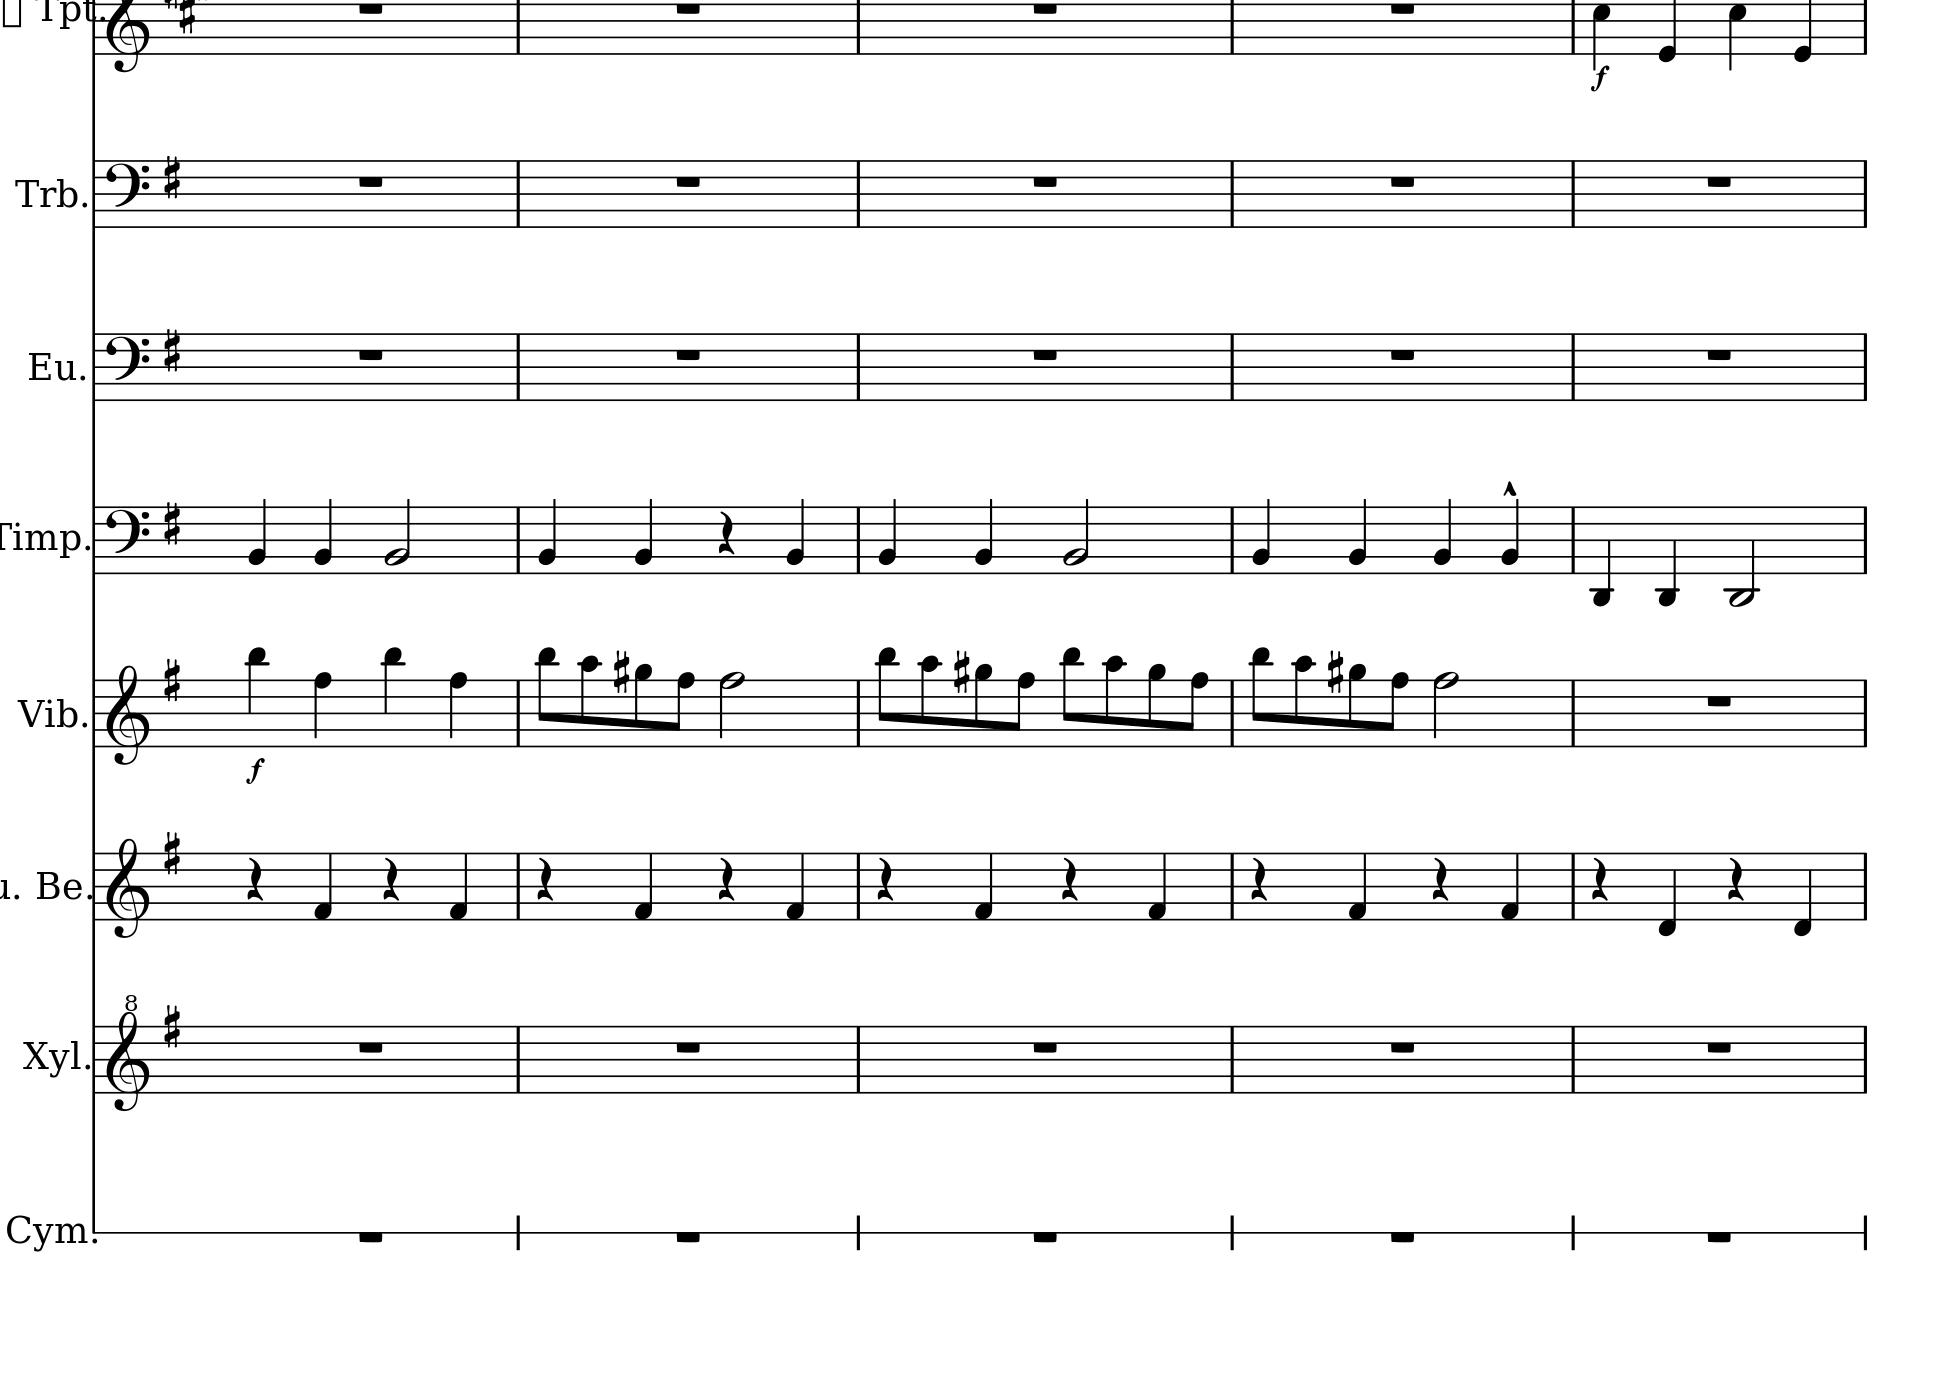2_-3: (1725, 504, 1758, 609)
2_2: (1062, 496, 1092, 576), (382, 496, 412, 574)
2_8: (1432, 670, 1461, 748), (718, 669, 745, 750)
4_-1: (1791, 850, 1815, 937), (1656, 850, 1678, 937)
4_-3: (1656, 502, 1680, 607), (1590, 504, 1614, 607)
4_1: (310, 850, 334, 922), (631, 850, 655, 922), (783, 850, 807, 922), (972, 850, 996, 922), (447, 850, 469, 922), (1146, 850, 1168, 922), (1347, 850, 1369, 922), (1498, 850, 1521, 922)
4_11: (379, 643, 405, 748), (244, 643, 268, 748)
4_2: (535, 496, 559, 576), (1431, 496, 1455, 576), (246, 495, 268, 574), (312, 496, 334, 574), (633, 496, 655, 574), (784, 496, 807, 574), (876, 496, 898, 574), (973, 496, 996, 574), (1251, 496, 1273, 574), (1347, 496, 1369, 574), (1500, 498, 1521, 574)
4_8: (310, 669, 334, 748), (447, 670, 469, 750)
8_10: (577, 652, 601, 748), (1102, 652, 1126, 748), (1291, 652, 1315, 748), (918, 652, 940, 748)
8_11: (874, 643, 900, 748), (1249, 643, 1275, 748), (1059, 643, 1083, 748), (535, 645, 559, 748)
8_8: (667, 670, 696, 748), (1008, 670, 1036, 748), (1182, 670, 1210, 748), (1381, 670, 1410, 748)
8_9: (631, 661, 654, 748), (972, 661, 994, 748), (1146, 661, 1168, 748), (1345, 661, 1368, 748)
Fclef: (103, 156, 153, 228), (103, 504, 151, 577), (103, 331, 151, 402)
Gclef: (106, 837, 151, 940), (105, 664, 150, 766), (103, 1, 148, 75)
High_Gclef: (105, 994, 148, 1114)
Marcato_above: (1501, 478, 1519, 499)
Rests1: (352, 1227, 388, 1249), (1027, 1227, 1062, 1249), (670, 1227, 705, 1248), (1702, 1228, 1737, 1249), (354, 343, 387, 364), (1029, 343, 1062, 364), (355, 169, 387, 190), (1029, 171, 1062, 190), (1386, 1228, 1419, 1248), (672, 171, 703, 190), (672, 343, 703, 363), (1386, 172, 1419, 190), (1029, 1036, 1062, 1054), (1704, 172, 1735, 190), (1387, 345, 1419, 363), (1704, 345, 1735, 363), (354, 1, 387, 18), (1029, 1, 1062, 18), (354, 1038, 387, 1054), (1386, 1038, 1419, 1054), (672, 1038, 703, 1054), (1386, 1, 1419, 16), (1704, 691, 1734, 708), (672, 1, 703, 16), (1704, 1039, 1734, 1054)
Rests4: (532, 855, 555, 903), (873, 855, 895, 903), (1588, 856, 1611, 903), (715, 508, 736, 556), (244, 855, 265, 903), (379, 855, 400, 903), (715, 855, 736, 903), (1059, 855, 1080, 903), (1248, 855, 1269, 903), (1725, 855, 1746, 903), (1431, 855, 1450, 903)
Sharp: (159, 151, 184, 202), (160, 325, 184, 376), (160, 655, 184, 706), (160, 829, 184, 879), (160, 1002, 184, 1051), (160, 499, 183, 549), (610, 646, 631, 694), (1326, 646, 1345, 696), (951, 646, 970, 694)
Single_barline: (849, 160, 868, 226), (850, 505, 868, 573), (1224, 160, 1242, 226), (1224, 505, 1242, 571), (508, 853, 526, 919), (510, 507, 528, 571), (850, 333, 867, 400), (1224, 333, 1240, 400), (1857, 333, 1873, 400), (1857, 505, 1873, 573), (87, 852, 103, 919), (1857, 160, 1873, 226), (510, 160, 526, 226), (510, 334, 526, 400), (510, 679, 526, 745), (850, 679, 867, 745), (1224, 679, 1240, 745), (1857, 679, 1873, 745), (1224, 853, 1240, 919), (1564, 853, 1581, 919), (1857, 853, 1873, 919), (510, 1026, 526, 1092), (850, 1026, 867, 1092), (1224, 1026, 1240, 1092), (1857, 1026, 1873, 1092), (1566, 333, 1581, 400), (1566, 505, 1581, 573), (1566, 160, 1581, 226), (87, 679, 102, 745), (1566, 679, 1581, 745), (850, 853, 865, 919), (88, 1024, 103, 1090), (1566, 1027, 1581, 1092), (88, 1, 106, 54), (88, 505, 102, 573), (88, 160, 102, 226), (1224, 1, 1240, 54), (510, 1, 526, 54), (850, 1, 867, 54), (1857, 1, 1872, 55), (88, 333, 100, 400), (1566, 1, 1581, 54)
Tpt: (36, 1, 93, 33)
Trb: (12, 169, 78, 210)
f: (243, 756, 267, 784), (1590, 64, 1612, 91)
